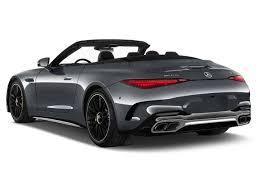mercedes: (200, 68, 216, 81)
